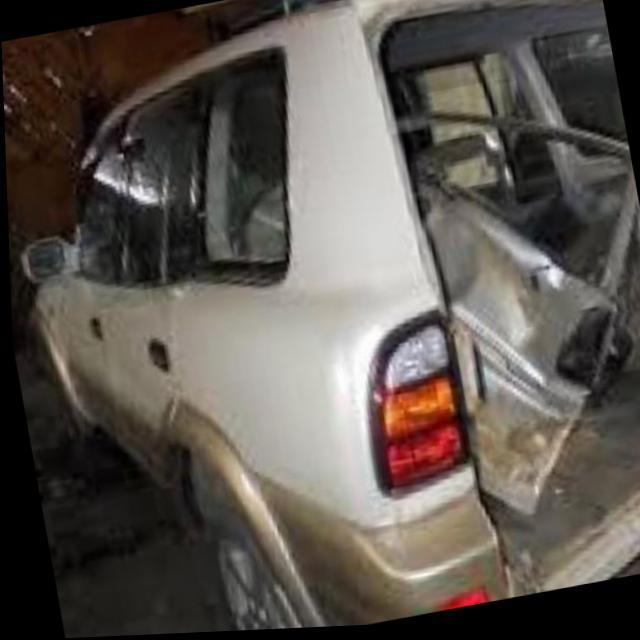no part: (365, 0, 640, 605)
